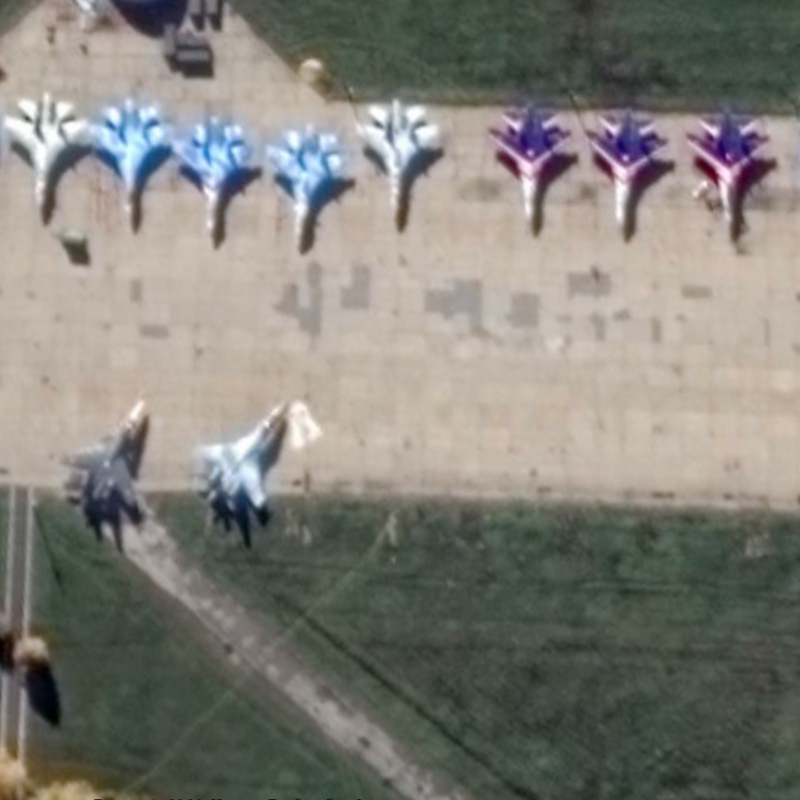A1: (176, 112, 263, 247), (485, 100, 577, 227), (91, 94, 176, 231), (263, 120, 351, 252), (683, 108, 773, 237), (352, 96, 442, 224), (3, 90, 91, 219), (192, 398, 289, 513), (583, 106, 671, 229)
A19: (56, 397, 149, 526)
